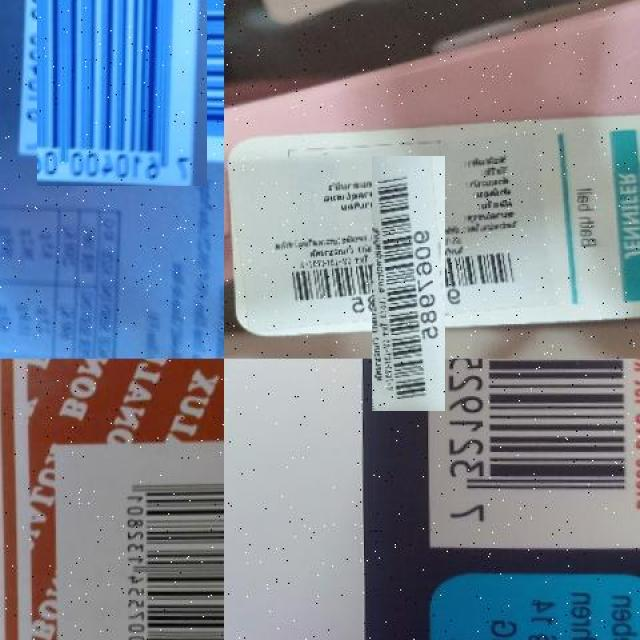Barcode: (424, 359, 640, 553), (29, 0, 216, 179), (326, 201, 490, 366), (115, 465, 224, 640)
